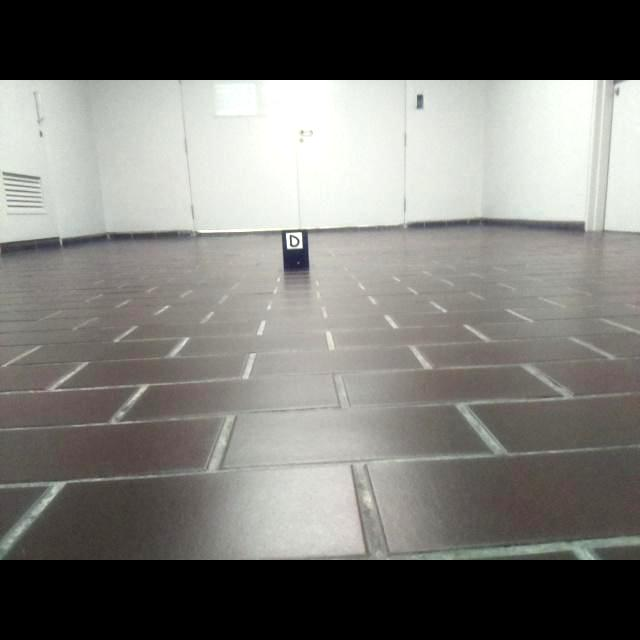D: (289, 233, 301, 248)
